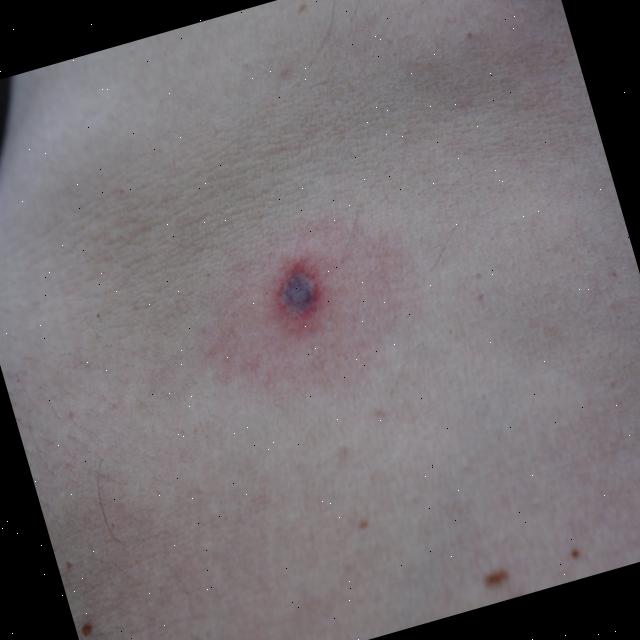kene: (242, 230, 367, 360)
